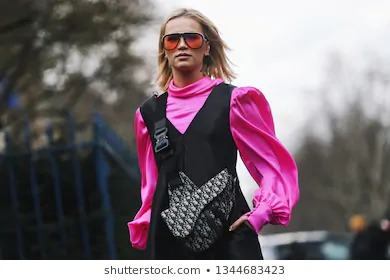C_blouse: (109, 79, 301, 248)
